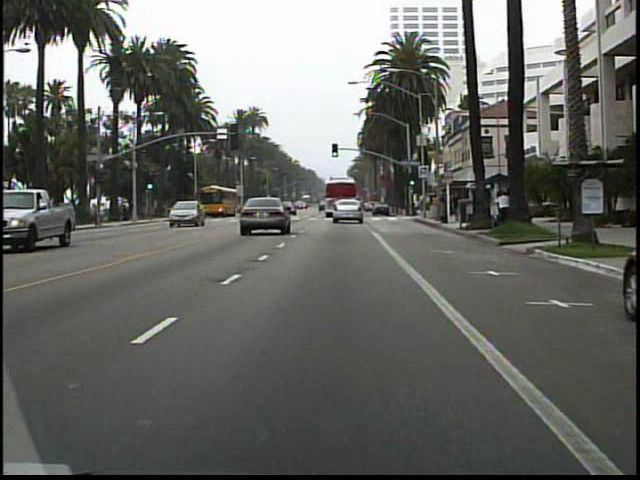person: (494, 187, 512, 227), (448, 190, 463, 227)
